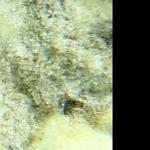dead: (1, 1, 106, 146)
